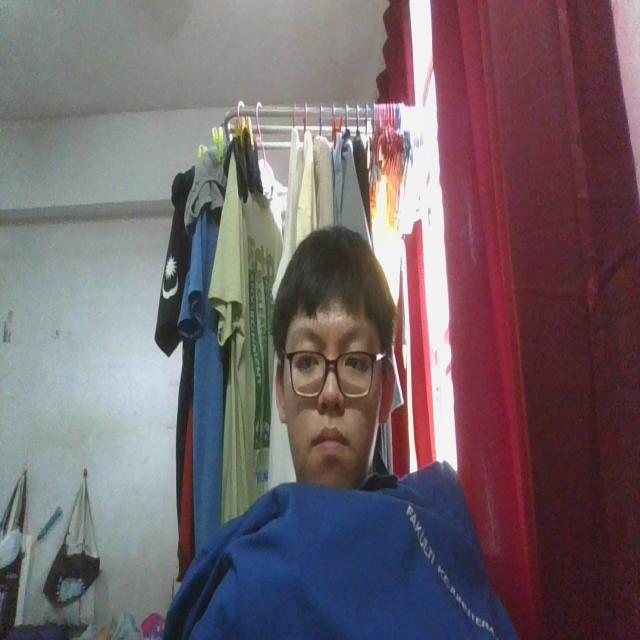person_without_labcoat: (165, 226, 518, 639)
